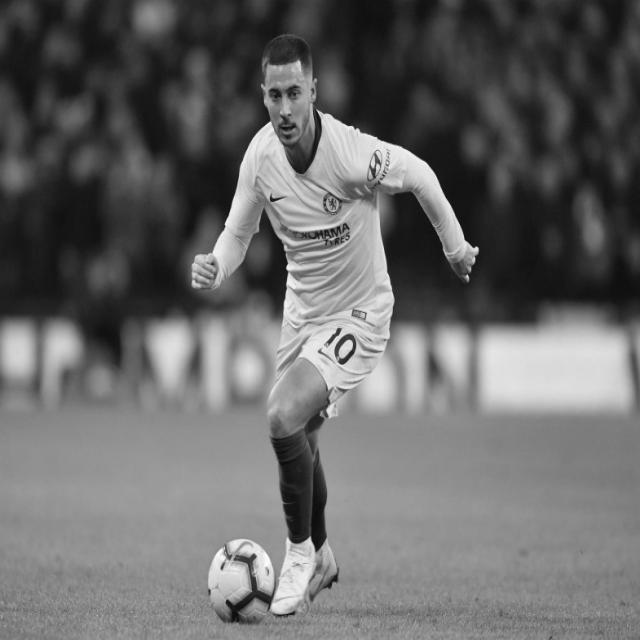football: (207, 533, 283, 624)
